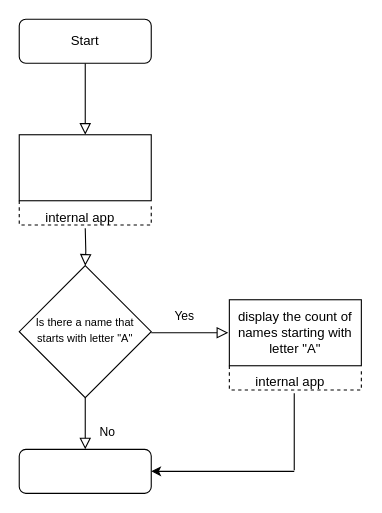
The diagram is 382 pixels wide and 513 high, and some of its shapes have lost their labels. Each missing label, with the centre of its shape:
Check through an array of names for Words with letter "A" as the first letter: (84,167)
End: (84,470)
